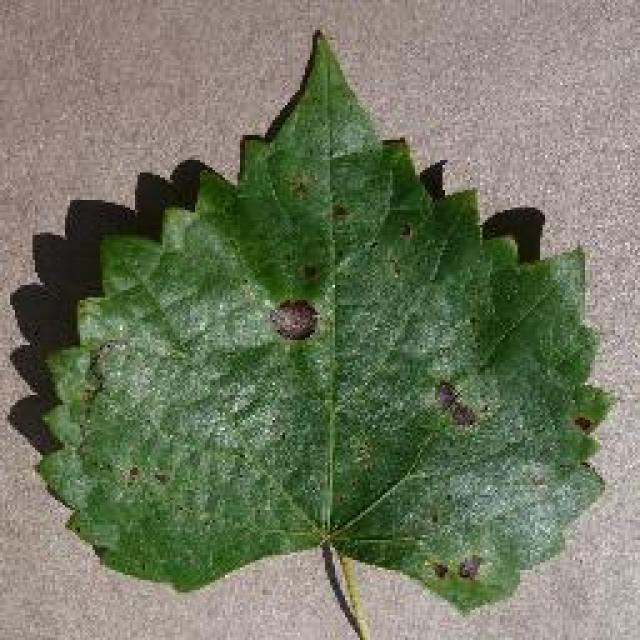Grape___Black_rot: (30, 29, 626, 622)
